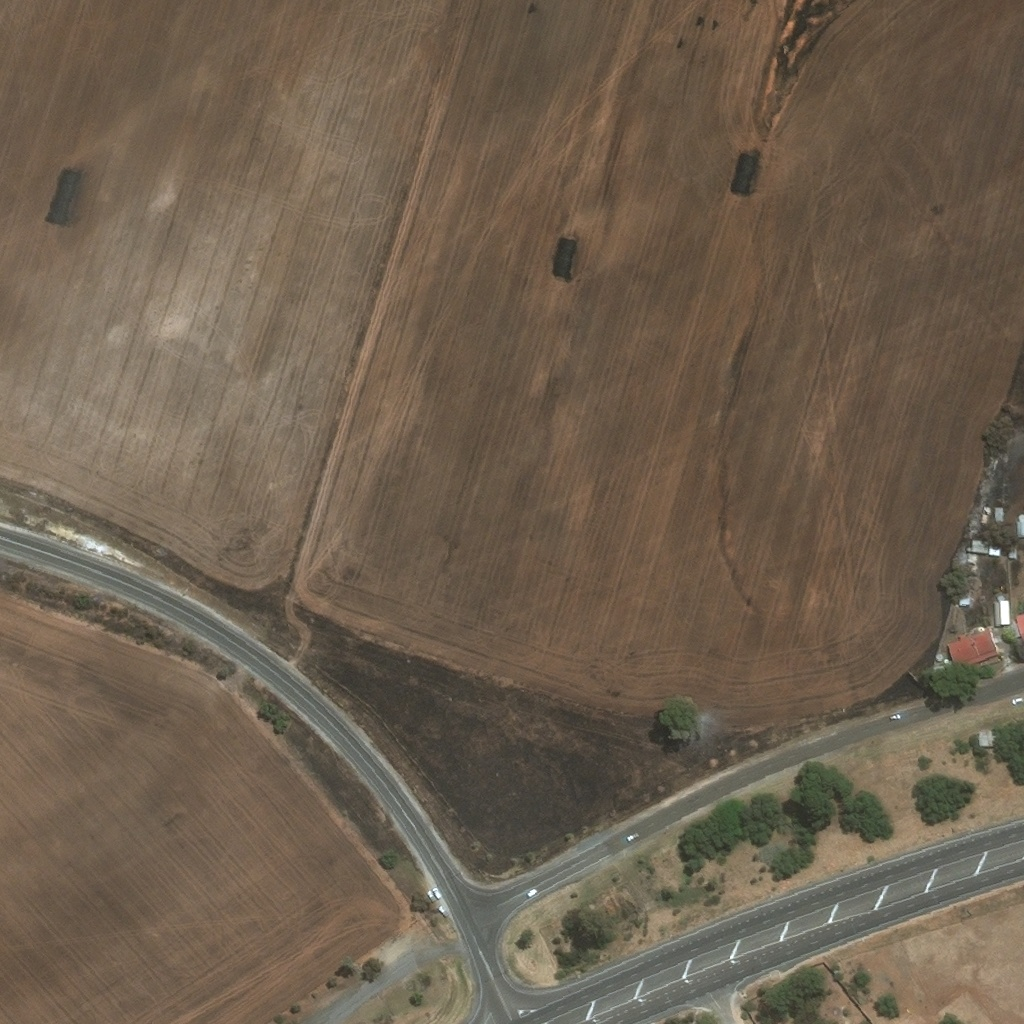0 no-damage: (942, 625, 998, 669), (968, 538, 1000, 557), (992, 602, 1009, 628), (1012, 614, 1023, 639), (978, 731, 991, 747), (958, 592, 970, 608), (979, 507, 988, 525), (1016, 515, 1023, 538), (1006, 547, 1015, 560), (964, 555, 973, 567), (994, 508, 1001, 521), (934, 655, 942, 663)
